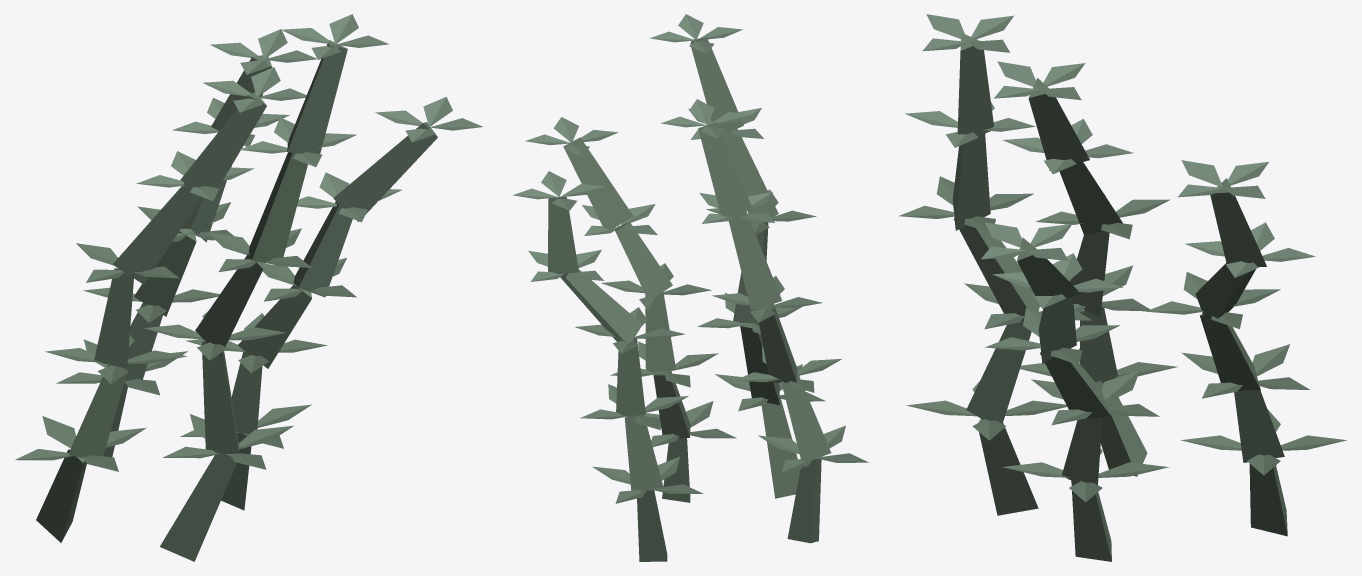
Rendered from shui.huwei@subadult__winter.glb.
3 renders of one model, left to right at view 1: azimuth 30°, elevation 25°; view 2: azimuth 150°, elevation 25°; view 3: azimuth 270°, elevation 25°, orthographic. The views are drawn at different scales.
Parts seen in each view (by area): view 1: shui.huwei@subadult__winter; view 2: shui.huwei@subadult__winter; view 3: shui.huwei@subadult__winter.
Part boxes in pixels (bbox=[...]): shui.huwei@subadult__winter: bbox=[15, 14, 482, 561]; shui.huwei@subadult__winter: bbox=[513, 14, 868, 561]; shui.huwei@subadult__winter: bbox=[898, 14, 1346, 561].
Size of the model in its own units: 0.4348 by 0.4977 by 0.3686.
